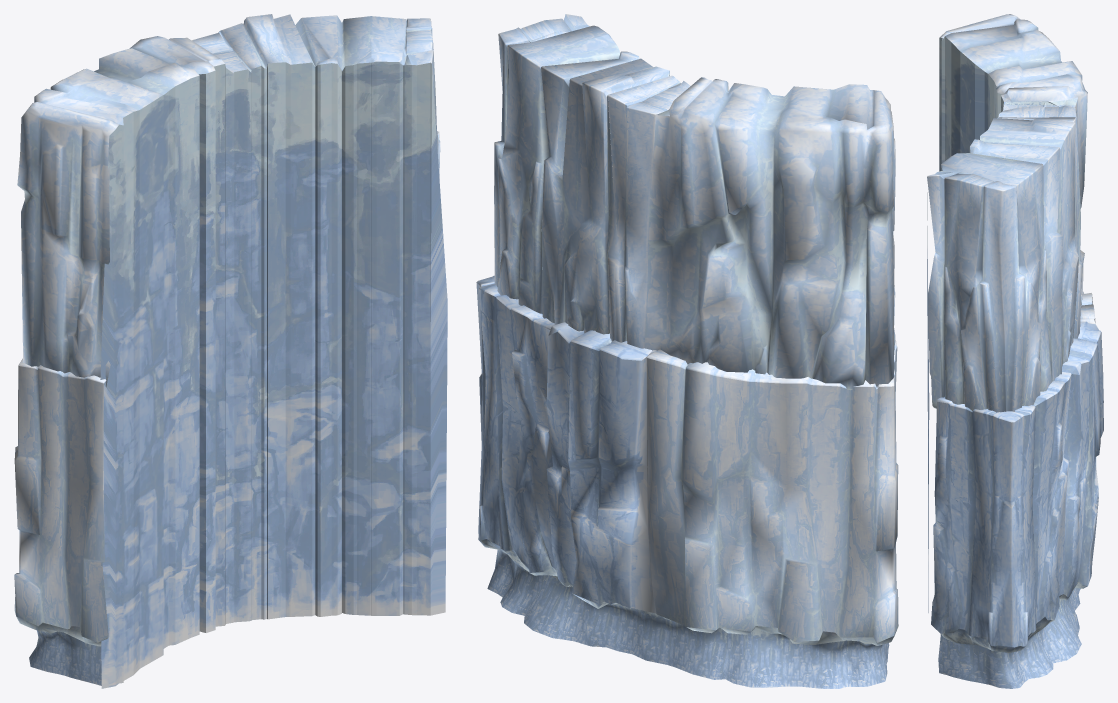
File: bel_env_cliff_uberwall_05.glb
The picture shows the model from 3 angles, left to right: view 1: azimuth 30°, elevation 25°; view 2: azimuth 150°, elevation 25°; view 3: azimuth 270°, elevation 25°; orthographic projection. The views are drawn at different scales.
Parts seen in each view (by area): view 1: bel_env_cliff_uberwall_05; view 2: bel_env_cliff_uberwall_05; view 3: bel_env_cliff_uberwall_05.
Boxes of the visible parts, <box> form: bel_env_cliff_uberwall_05: <box>14,14,447,688</box>; bel_env_cliff_uberwall_05: <box>476,14,898,688</box>; bel_env_cliff_uberwall_05: <box>927,14,1103,688</box>.
Bounding box in the file's own units: 20.17 × 25.66 × 8.14.
Materials: 2 (2 with a texture image).
